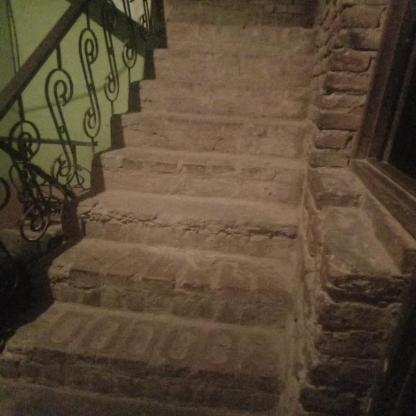stair: (18, 11, 325, 406)
